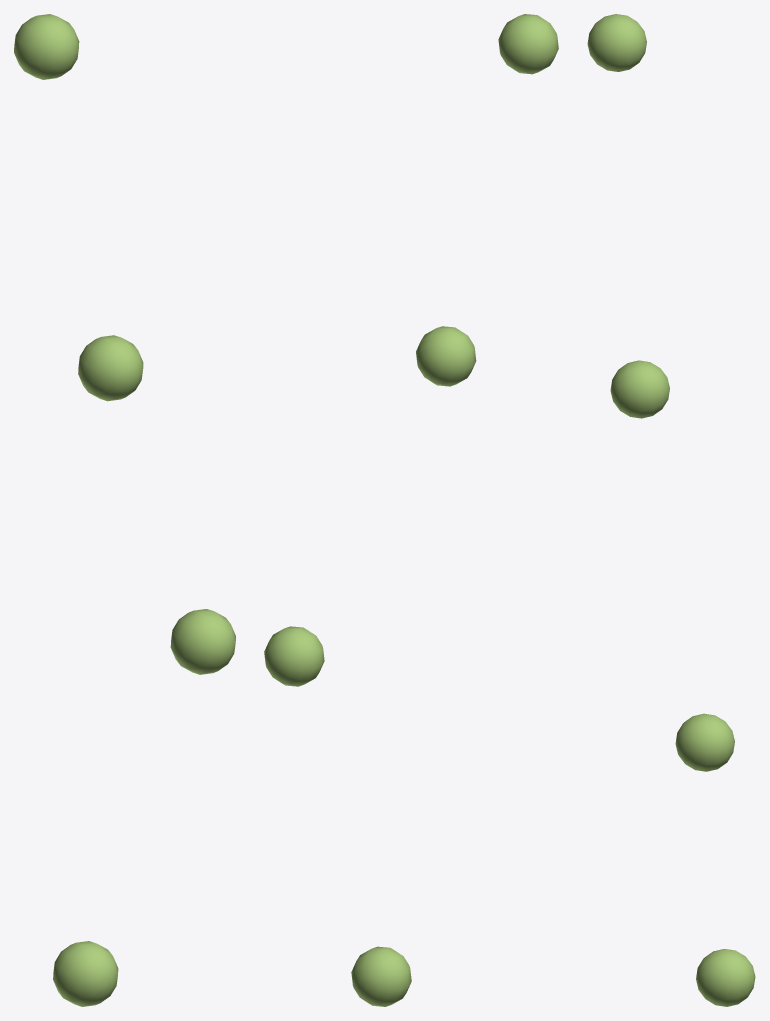
Rendered from inferior-superficial-inguinal-nodes-l.glb.
3 renders of one model, left to right at view 1: azimuth 30°, elevation 25°; view 2: azimuth 150°, elevation 25°; view 3: azimuth 270°, elevation 25°, orthographic. The views are drawn at different scales.
Parts seen in each view (by area): view 1: Inferior superficial inguinal nodes.l; view 2: Inferior superficial inguinal nodes.l; view 3: Inferior superficial inguinal nodes.l.
Boxes of the visible parts, x1=… form: Inferior superficial inguinal nodes.l: x1=14, y1=14, x2=235, y2=1006; Inferior superficial inguinal nodes.l: x1=264, y1=14, x2=558, y2=1006; Inferior superficial inguinal nodes.l: x1=587, y1=14, x2=755, y2=1006.
Size of the model in its own units: 0.0119 by 0.0454 by 0.00732.
